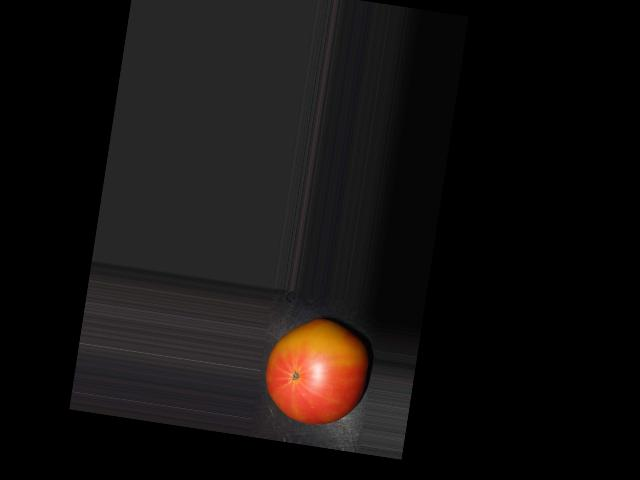tomato: (259, 312, 374, 431)
